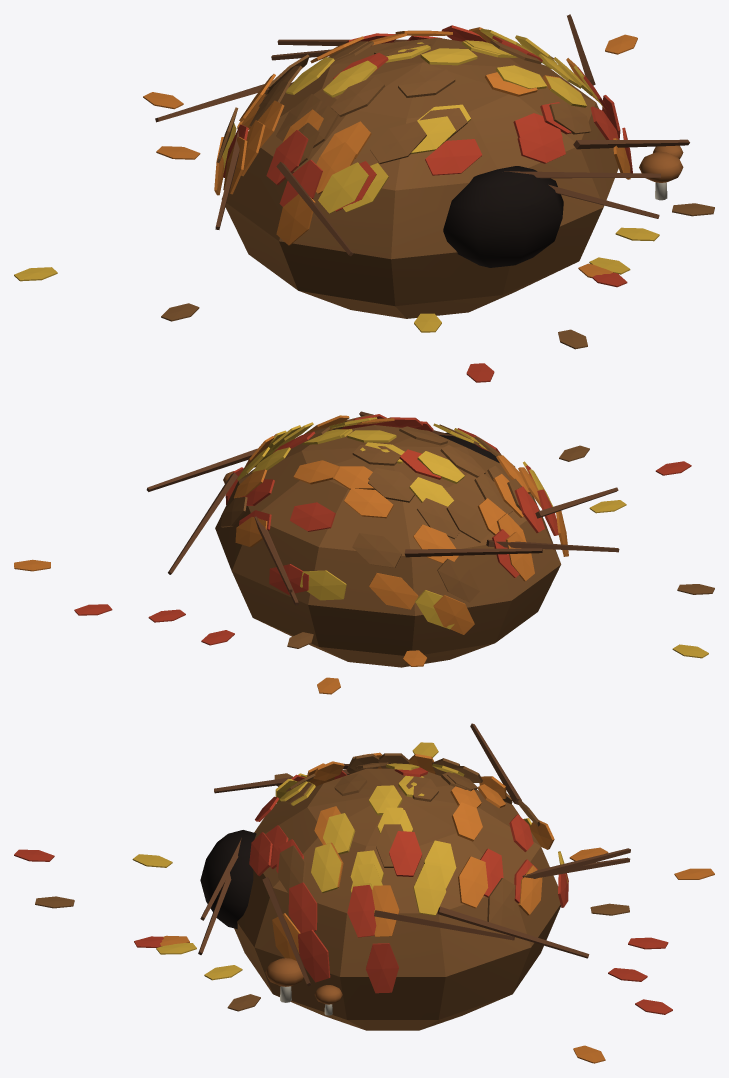
Rendered from hedgehog_nest.glb.
3 views of the same model, one above another, from view 1: azimuth 30°, elevation 25°; view 2: azimuth 150°, elevation 25°; view 3: azimuth 270°, elevation 25° (orthographic). The views are drawn at different scales.
Visible parts, largest first — view 1: Nest; view 2: Nest; view 3: Nest.
Part boxes in pixels (box(x1,y1,x2,y2)): Nest: box(14, 14, 714, 382); Nest: box(14, 411, 714, 694); Nest: box(14, 723, 714, 1063).
Bounding box in the file's own units: 3.54 × 1.14 × 3.28.
